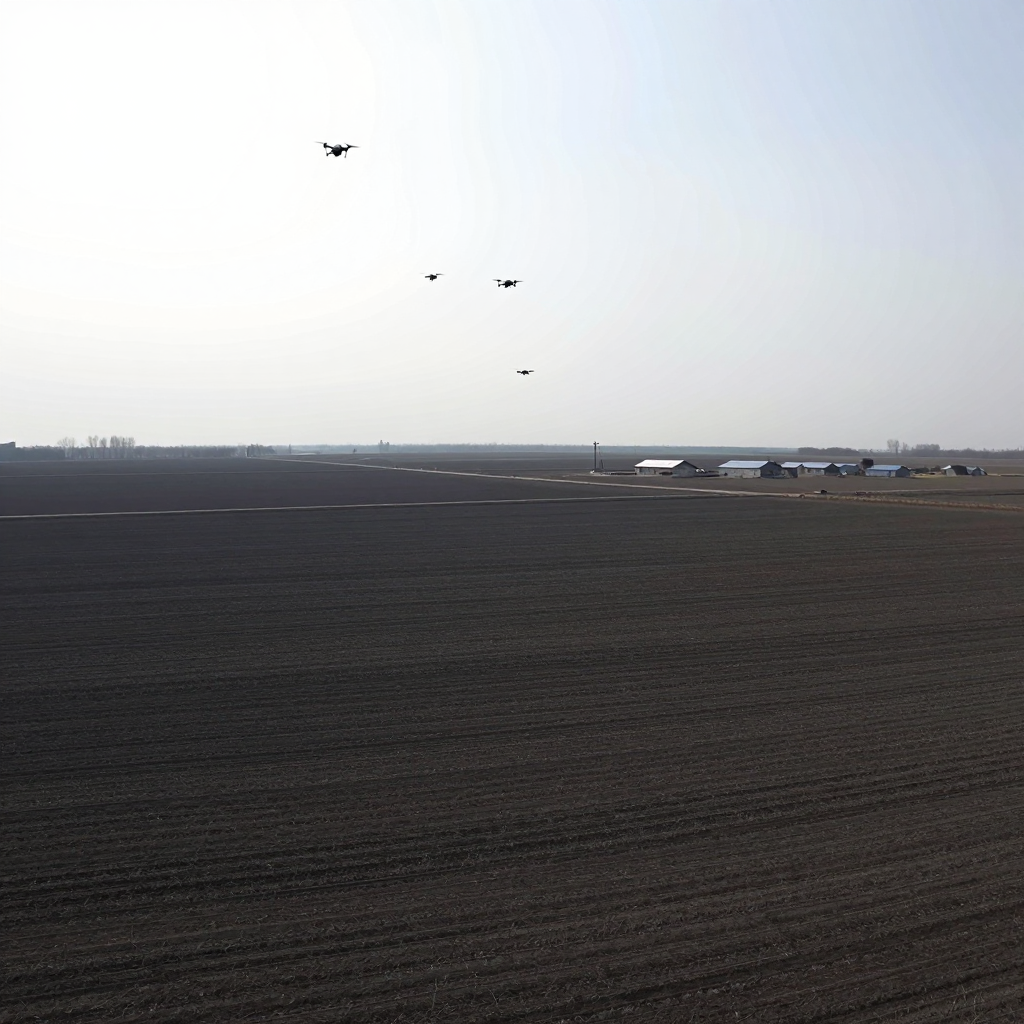drone: (314, 141, 361, 158), (492, 279, 524, 288), (422, 273, 444, 282), (517, 370, 534, 376), (512, 280, 524, 287)
